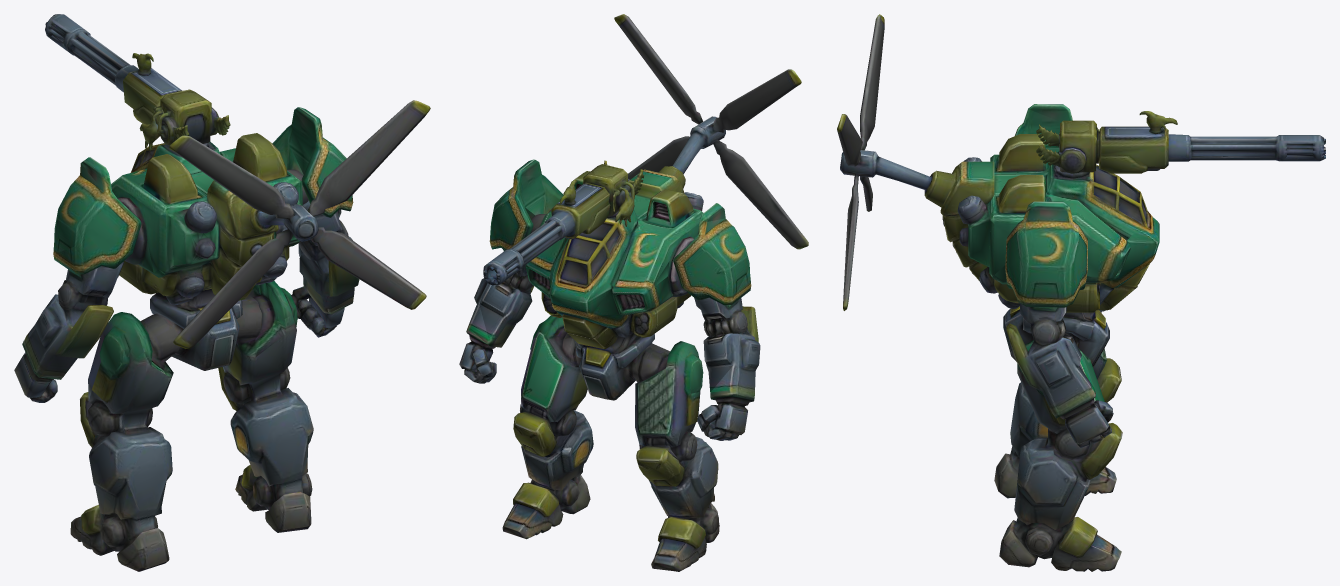
The model's file is wharf_gun.glb.
The picture shows the model from 3 angles, left to right: view 1: azimuth 30°, elevation 25°; view 2: azimuth 150°, elevation 25°; view 3: azimuth 270°, elevation 25°; orthographic projection. The views are drawn at different scales.
Visible parts, largest first — view 1: Body, Trim; view 2: Body, Trim; view 3: Body, Trim.
Part boxes in pixels (left/top/right/bottom): Body: left=14, top=14, right=430, bottom=571; Trim: left=53, top=107, right=353, bottom=374; Body: left=459, top=14, right=808, bottom=571; Trim: left=469, top=159, right=749, bottom=408; Body: left=837, top=14, right=1325, bottom=571; Trim: left=962, top=104, right=1159, bottom=401.
Size of the model in its own units: 2.5 by 3.66 by 3.52.
Materials: 2 (2 with a texture image).
